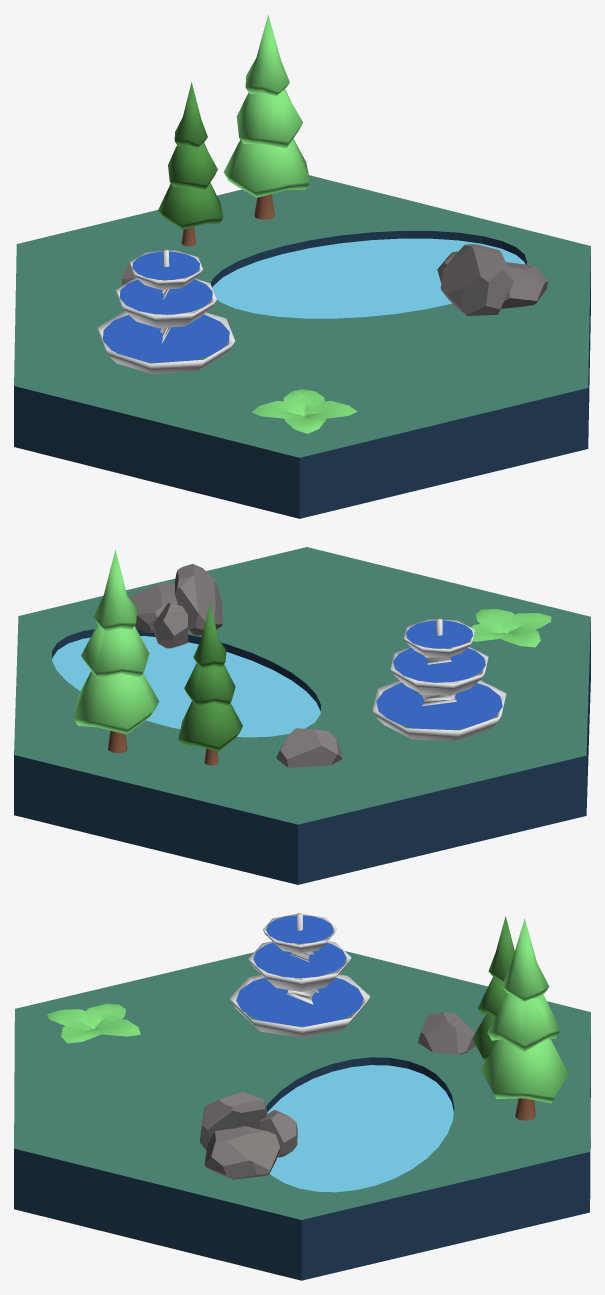
File: Macro - Townhall lvl 123 Water Land rev.fbx
3 views of the same model, one above another, from view 1: azimuth 30°, elevation 25°; view 2: azimuth 150°, elevation 25°; view 3: azimuth 270°, elevation 25° (orthographic).
Parts seen in each view (by area): view 1: Cylinder.050, Cylinder.052, Cube.018, Tree_Spruce_tiny_01.008, Rock Type2 02 mesh.008, Tree_Spruce_tiny_01.007, Plane.003; view 2: Cylinder.050, Cube.018, Cylinder.052, Tree_Spruce_tiny_01.008, Tree_Spruce_tiny_01.007, Rock Type2 02 mesh.008, Plane.003, Rock Type2 04 mesh.025; view 3: Cylinder.050, Cylinder.052, Cube.018, Tree_Spruce_tiny_01.008, Rock Type2 02 mesh.008, Plane.003, Tree_Spruce_tiny_01.007, Rock Type2 04 mesh.025.
Part boxes in pixels (left/top/right/bottom): Cylinder.050: left=14, top=175, right=590, bottom=518; Cylinder.052: left=212, top=238, right=524, bottom=318; Cube.018: left=97, top=249, right=234, bottom=374; Tree_Spruce_tiny_01.008: left=224, top=14, right=310, bottom=219; Rock Type2 02 mesh.008: left=437, top=244, right=548, bottom=315; Tree_Spruce_tiny_01.007: left=158, top=82, right=223, bottom=246; Plane.003: left=251, top=389, right=357, bottom=433; Cylinder.050: left=14, top=547, right=590, bottom=884; Cube.018: left=372, top=618, right=506, bottom=741; Cylinder.052: left=52, top=635, right=320, bottom=737; Tree_Spruce_tiny_01.008: left=73, top=549, right=159, bottom=753; Tree_Spruce_tiny_01.007: left=178, top=603, right=242, bottom=765; Rock Type2 02 mesh.008: left=128, top=564, right=222, bottom=648; Plane.003: left=471, top=609, right=551, bottom=647; Rock Type2 04 mesh.025: left=276, top=728, right=342, bottom=767; Cylinder.050: left=14, top=951, right=590, bottom=1280; Cylinder.052: left=267, top=1065, right=453, bottom=1192; Cube.018: left=229, top=913, right=370, bottom=1037; Tree_Spruce_tiny_01.008: left=480, top=918, right=568, bottom=1120; Rock Type2 02 mesh.008: left=199, top=1092, right=297, bottom=1179; Plane.003: left=47, top=1003, right=140, bottom=1043; Tree_Spruce_tiny_01.007: left=472, top=916, right=514, bottom=1061; Rock Type2 04 mesh.025: left=418, top=1012, right=475, bottom=1054.
Bounding box in the file's own units: 197 × 85.91 × 172.
